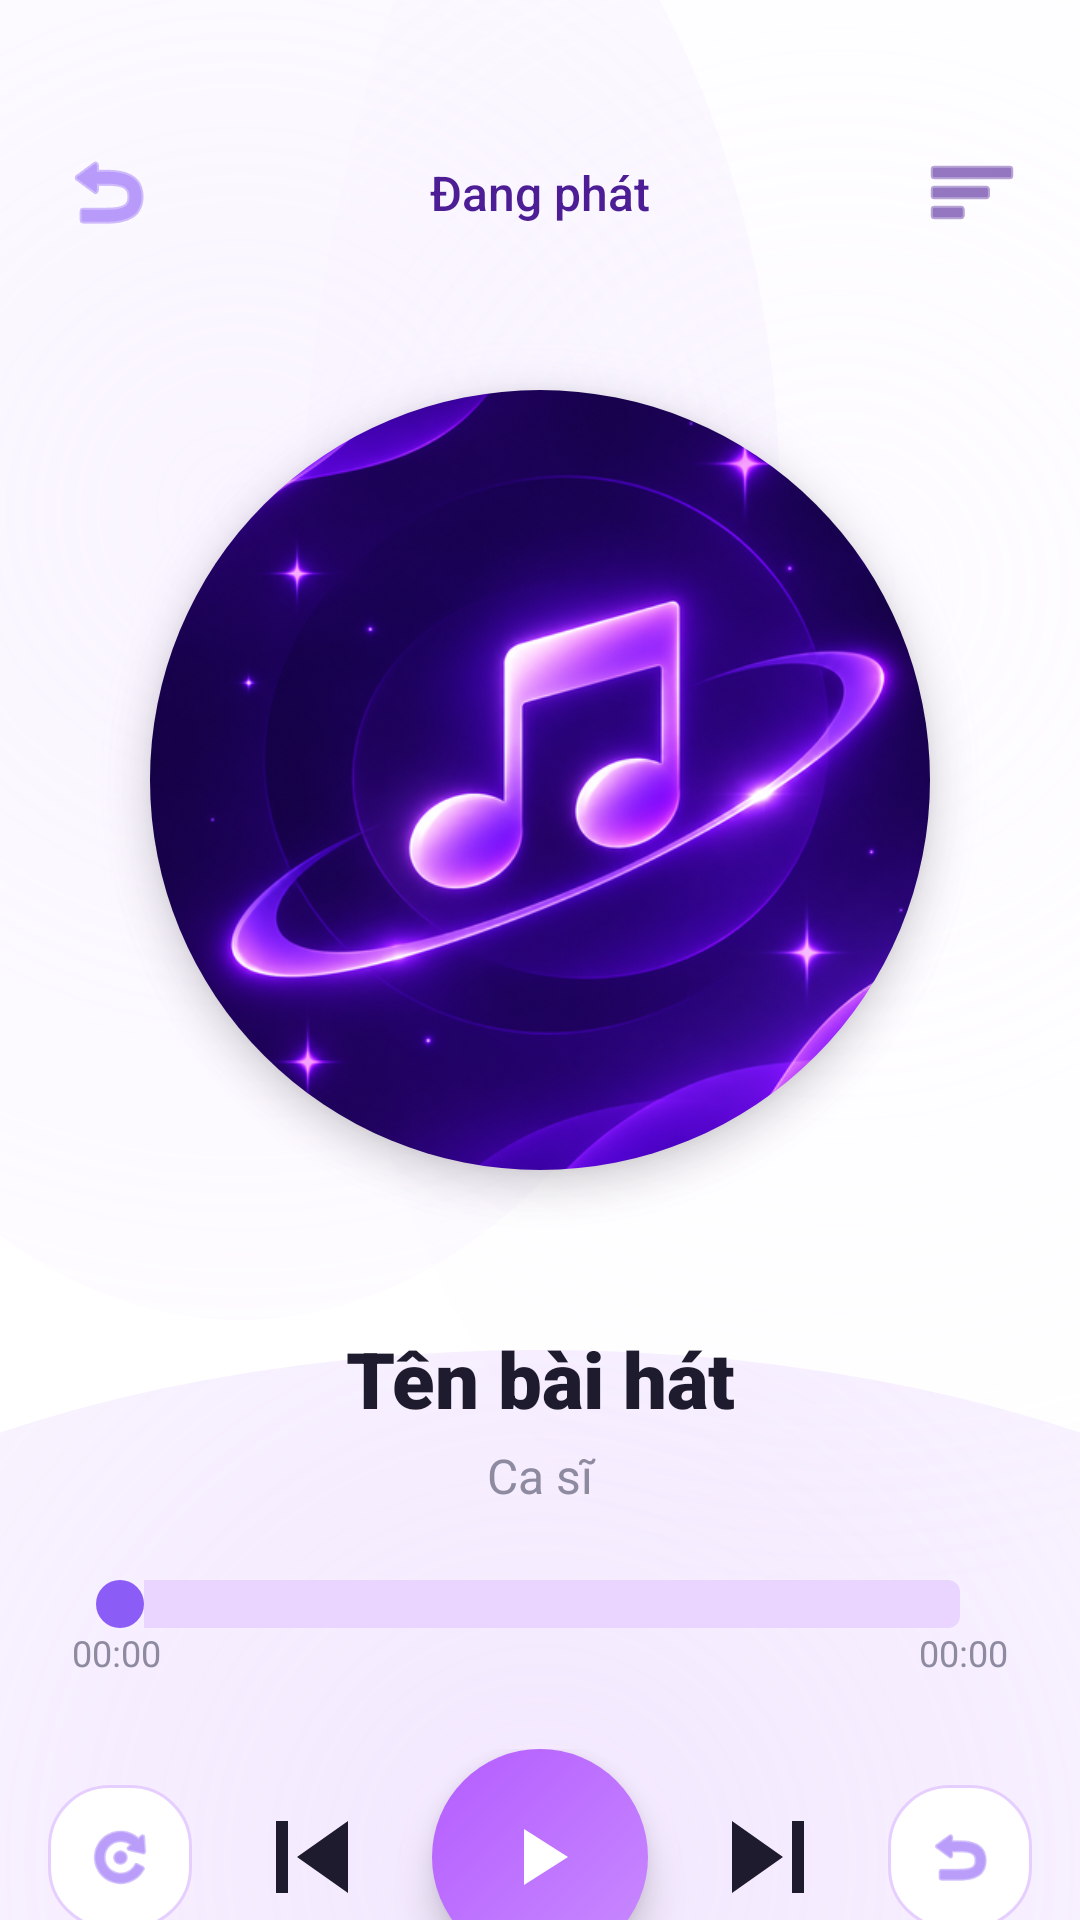

Locate icon controls on the screen. Image size 1080 × 1920, boxes as bbox=(x1, y1, x2, y2).
next: bbox=(732, 1821, 804, 1893)
prev: bbox=(276, 1821, 348, 1893)
revert: bbox=(75, 162, 144, 224), bbox=(888, 1785, 1032, 1920)
rotate: bbox=(48, 1785, 192, 1920)
sort by size: bbox=(931, 166, 1013, 219)
